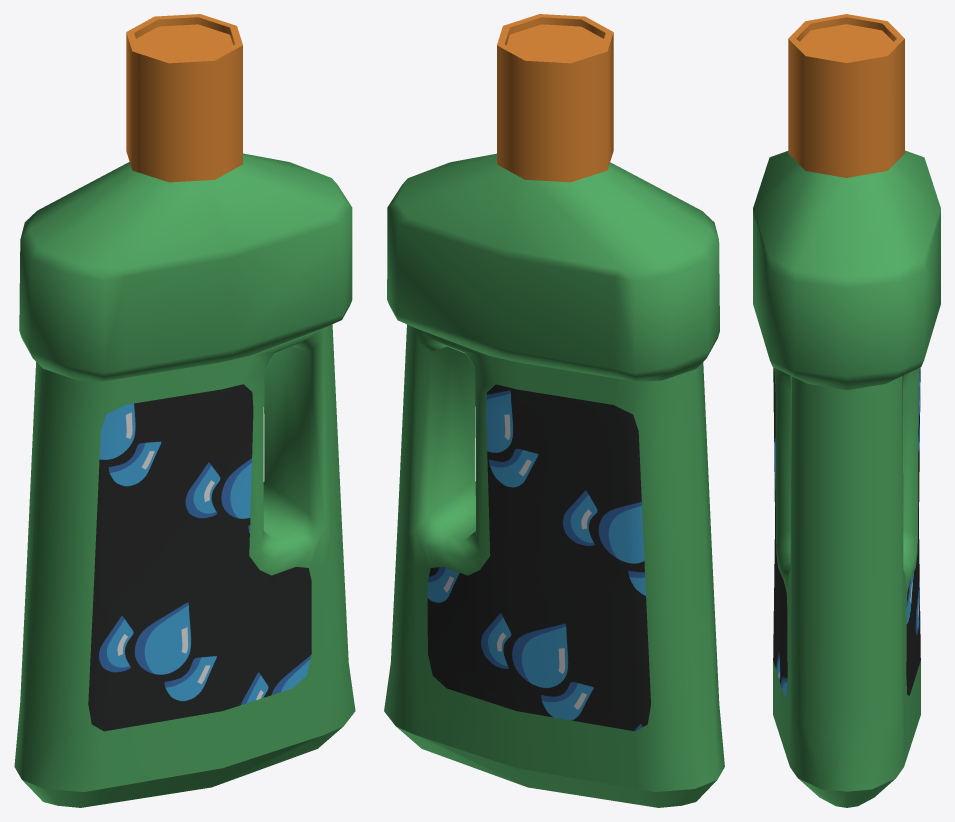
File: PlasticBottle_04.fbx
3 views of the same model, side by side, from view 1: azimuth 30°, elevation 25°; view 2: azimuth 150°, elevation 25°; view 3: azimuth 270°, elevation 25° (orthographic). The views are drawn at different scales.
Visible parts, largest first — view 1: PlasticBottle_04, PlasticBottle_04_Cap; view 2: PlasticBottle_04, PlasticBottle_04_Cap; view 3: PlasticBottle_04, PlasticBottle_04_Cap.
Part boxes in pixels (x1,y1,x2,y2): PlasticBottle_04: [14, 153, 355, 807]; PlasticBottle_04_Cap: [126, 14, 242, 182]; PlasticBottle_04: [384, 153, 724, 807]; PlasticBottle_04_Cap: [497, 14, 613, 182]; PlasticBottle_04: [753, 150, 940, 807]; PlasticBottle_04_Cap: [788, 14, 904, 177].
Size of the model in its own units: 0.2382 by 0.5105 by 0.1235.
